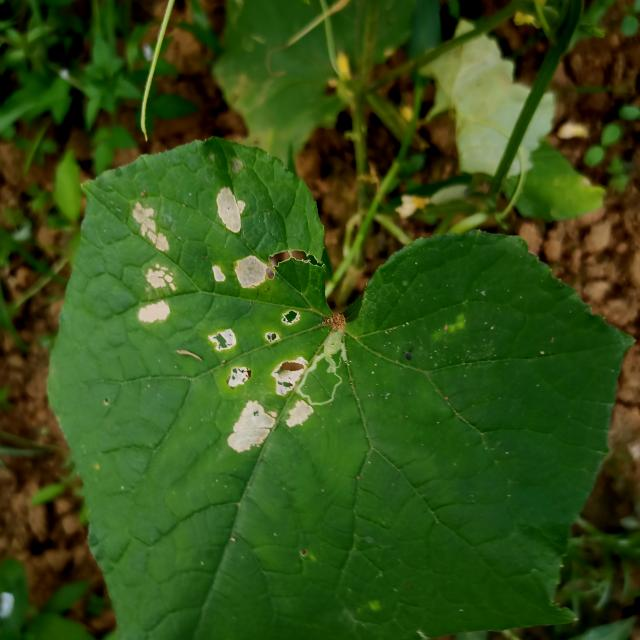disease_cucumber: (209, 188, 314, 461), (130, 204, 178, 327)
